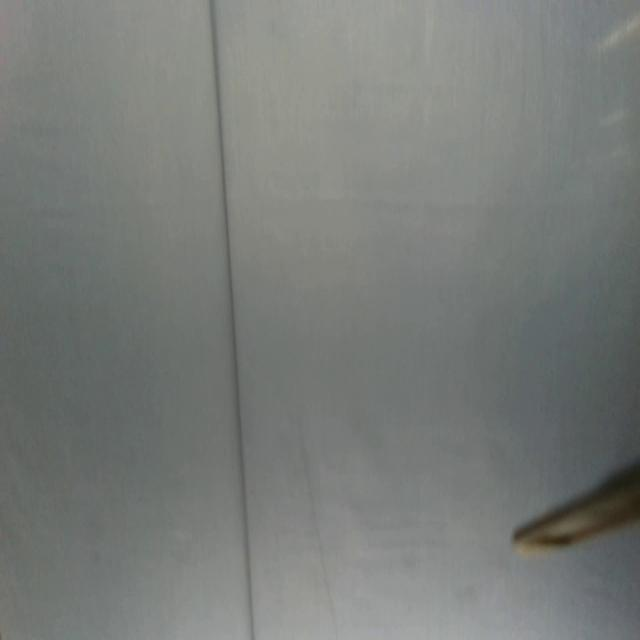crease: (208, 0, 256, 639), (298, 434, 339, 630)
